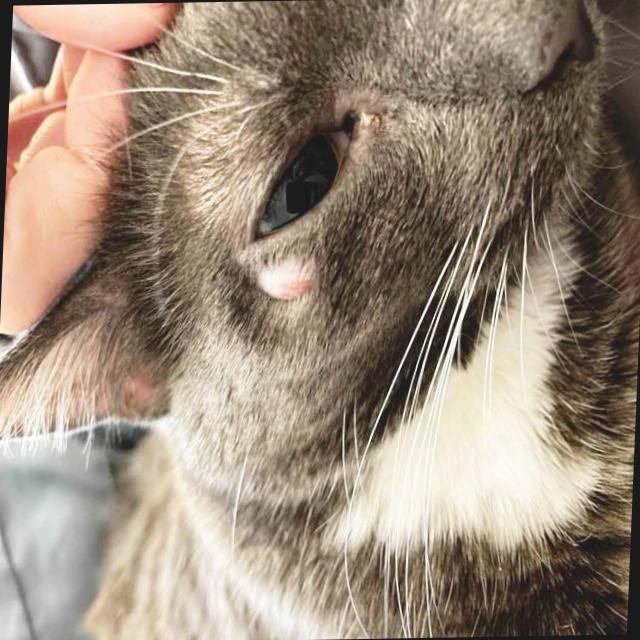lump_and_bump: (251, 256, 326, 299)
